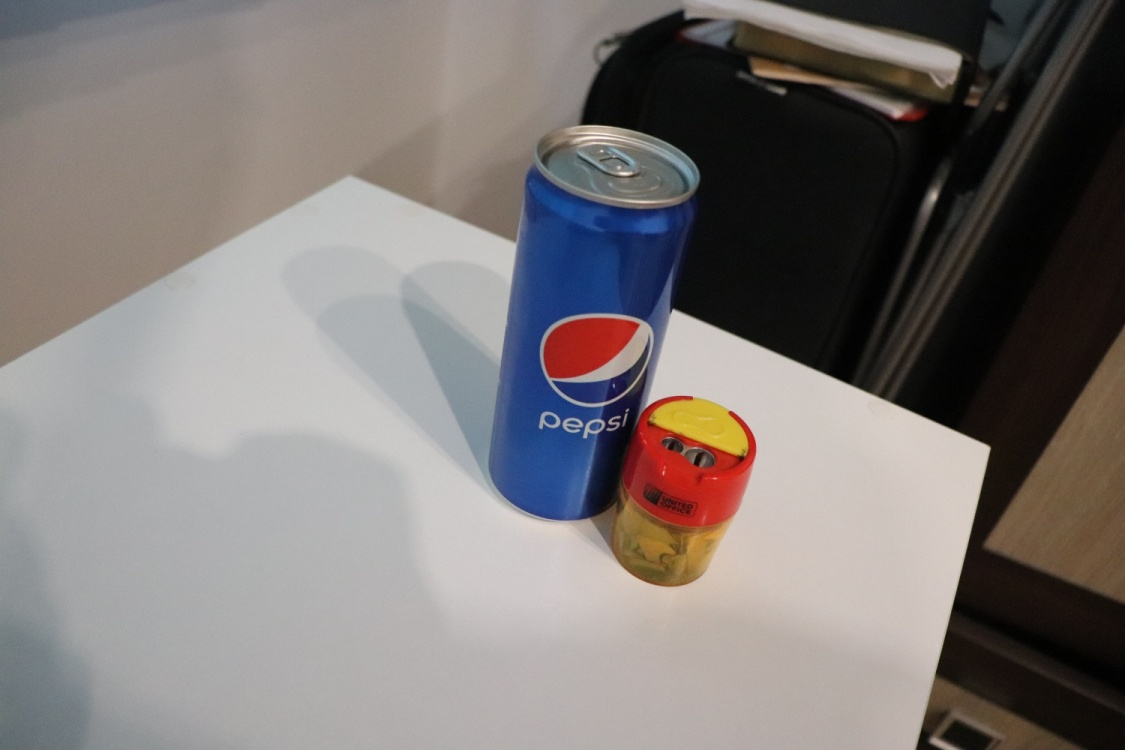pepsi: (486, 114, 707, 541)
